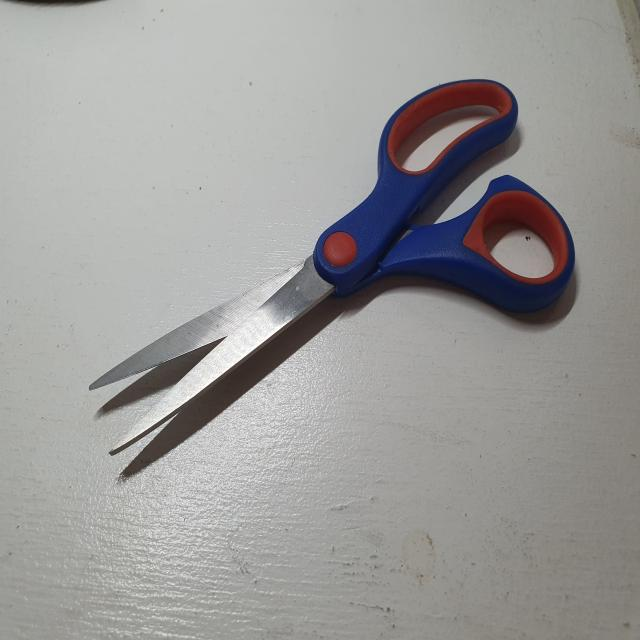scissor: (88, 75, 581, 464)
